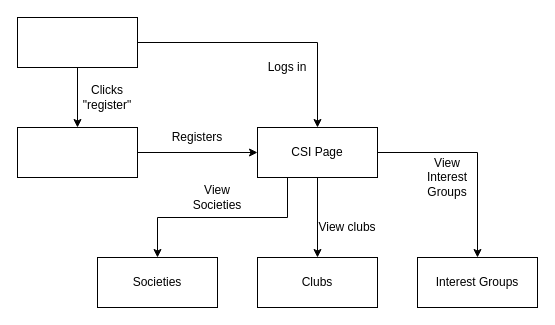
Some shapes in this 555 by 325 pixel diagram are drawn without their labels. The shapes that lost their labels are listed below. From the top down, each one's centre as x and y in pixels, then its label:
the point at 77,42: Login Page
the point at 77,152: Registration Page
